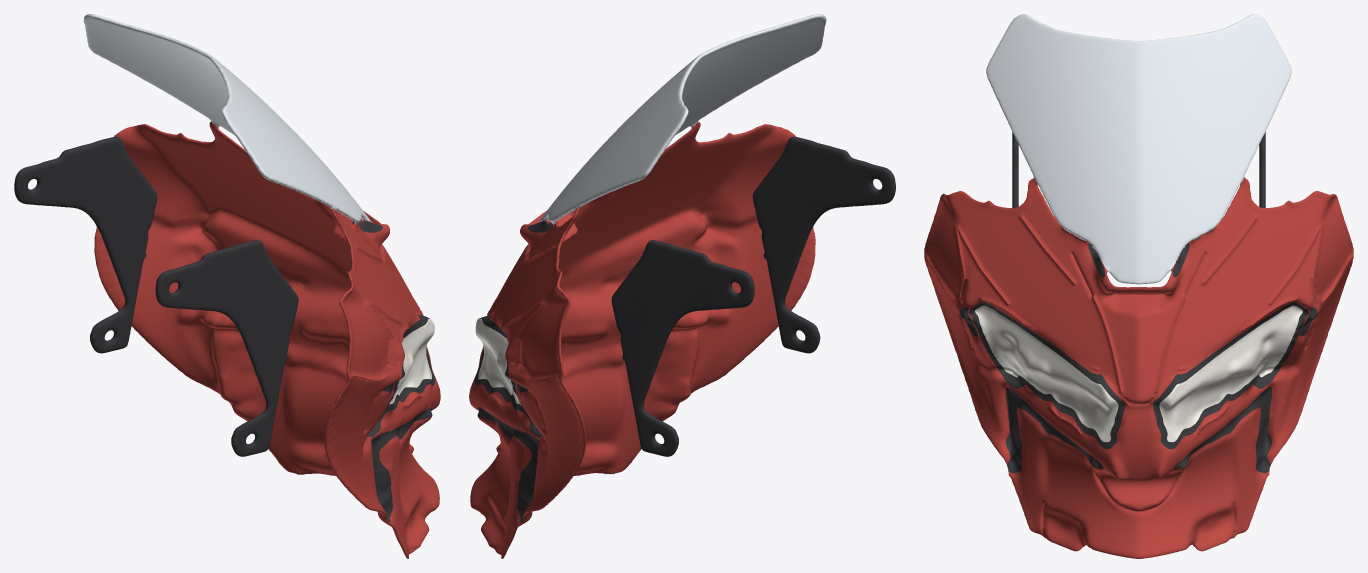
Rendered from naked_4.glb.
The picture shows the model from 3 angles, left to right: view 1: azimuth 30°, elevation 25°; view 2: azimuth 150°, elevation 25°; view 3: azimuth 270°, elevation 25°; orthographic projection. The views are drawn at different scales.
Parts seen in each view (by area): view 1: naked_4; view 2: naked_4; view 3: naked_4.
Part boxes in pixels (x1,y1,x2,y2): naked_4: [14, 14, 440, 558]; naked_4: [469, 14, 895, 558]; naked_4: [924, 14, 1353, 558].
Size of the model in its own units: 0.3416 by 0.4691 by 0.4166.
